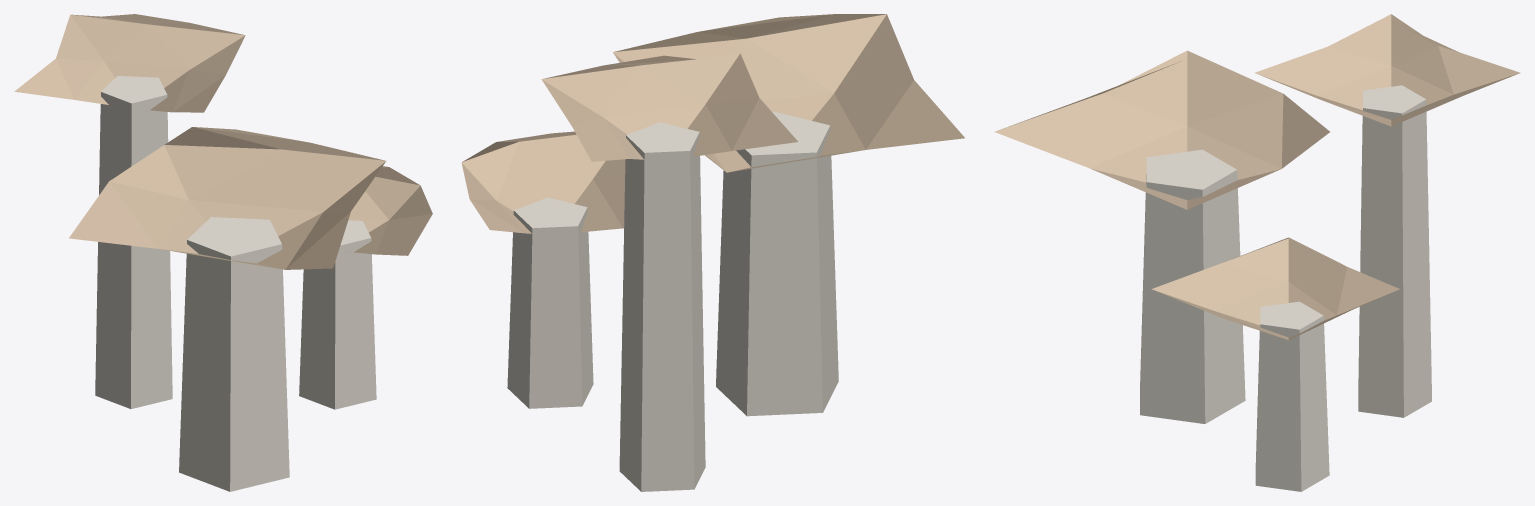
File: mushroom_v33.glb
3 renders of one model, left to right at view 1: azimuth 30°, elevation 25°; view 2: azimuth 150°, elevation 25°; view 3: azimuth 270°, elevation 25°, orthographic. The views are drawn at different scales.
Visible parts, largest first — view 1: lod0; view 2: lod0; view 3: lod0.
Boxes of the visible parts, x1,y1,x2,y2 form: lod0: (14, 14, 432, 491); lod0: (461, 14, 964, 491); lod0: (994, 14, 1520, 491).
Size of what is drawn, in the model's own units: 0.4728 by 0.4238 by 0.5372.
